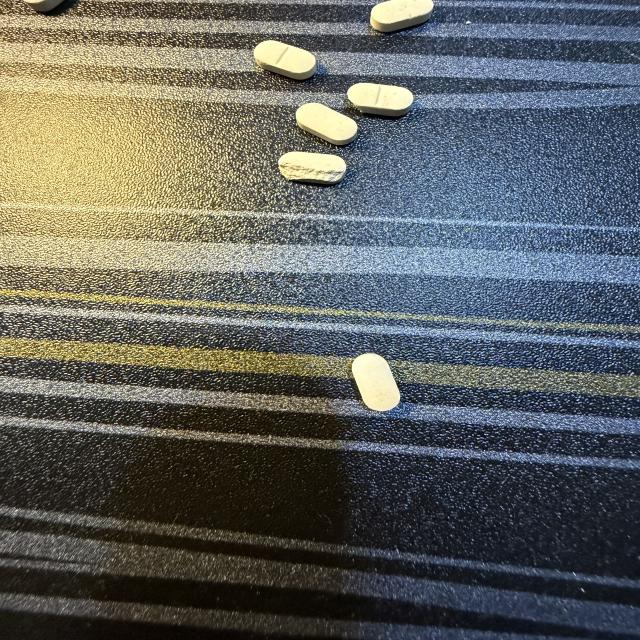pill: (352, 354, 400, 411), (296, 103, 357, 145), (254, 40, 316, 79), (348, 83, 413, 116), (279, 152, 346, 184), (370, 0, 433, 31), (25, 0, 62, 12)
